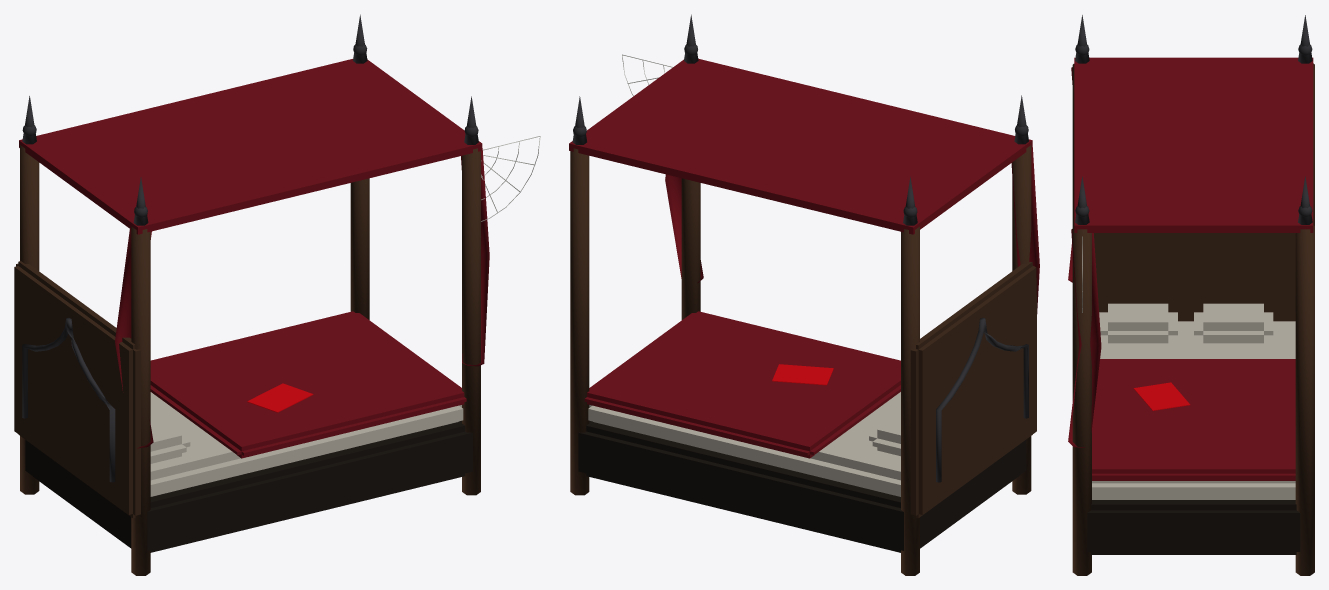
The model's file is gothic-bed.glb.
The picture shows the model from 3 angles, left to right: view 1: azimuth 30°, elevation 25°; view 2: azimuth 150°, elevation 25°; view 3: azimuth 270°, elevation 25°; orthographic projection.
Parts seen in each view (by area): view 1: Model Mesh; view 2: Model Mesh; view 3: Model Mesh.
Boxes of the visible parts, <box> form: Model Mesh: <box>14,14,540,575</box>; Model Mesh: <box>569,14,1039,575</box>; Model Mesh: <box>1068,15,1314,575</box>.
Bounding box in the file's own units: 3.04 × 2.75 × 1.55.
